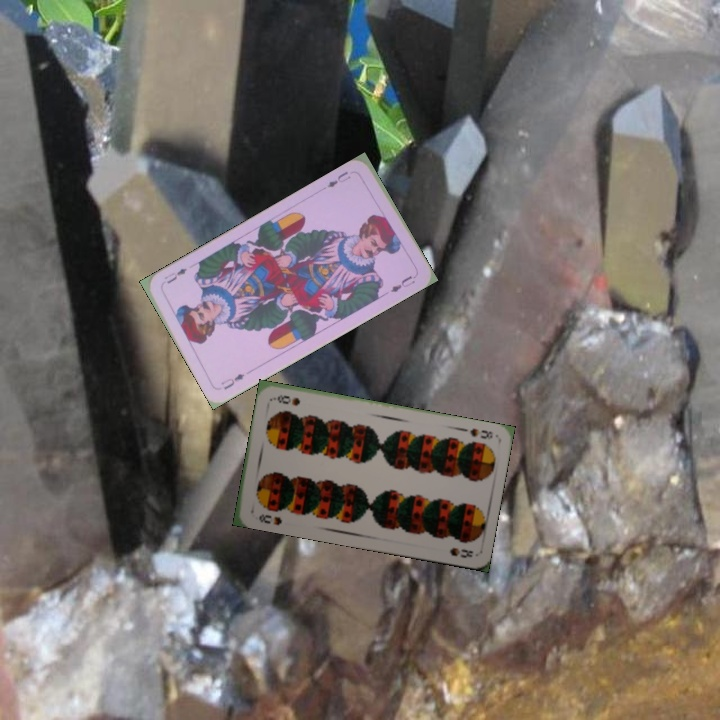EU: (323, 167, 353, 190), (217, 369, 247, 392)
S8: (255, 510, 284, 528), (466, 424, 495, 442)
